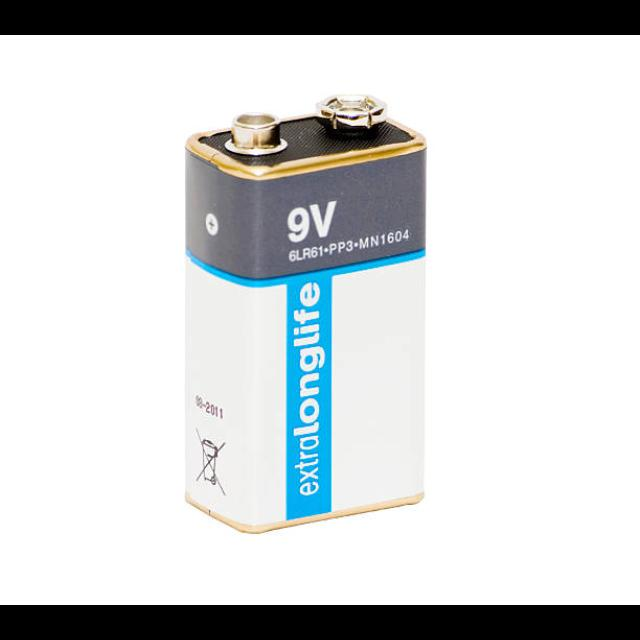Battery: (182, 91, 429, 538)
